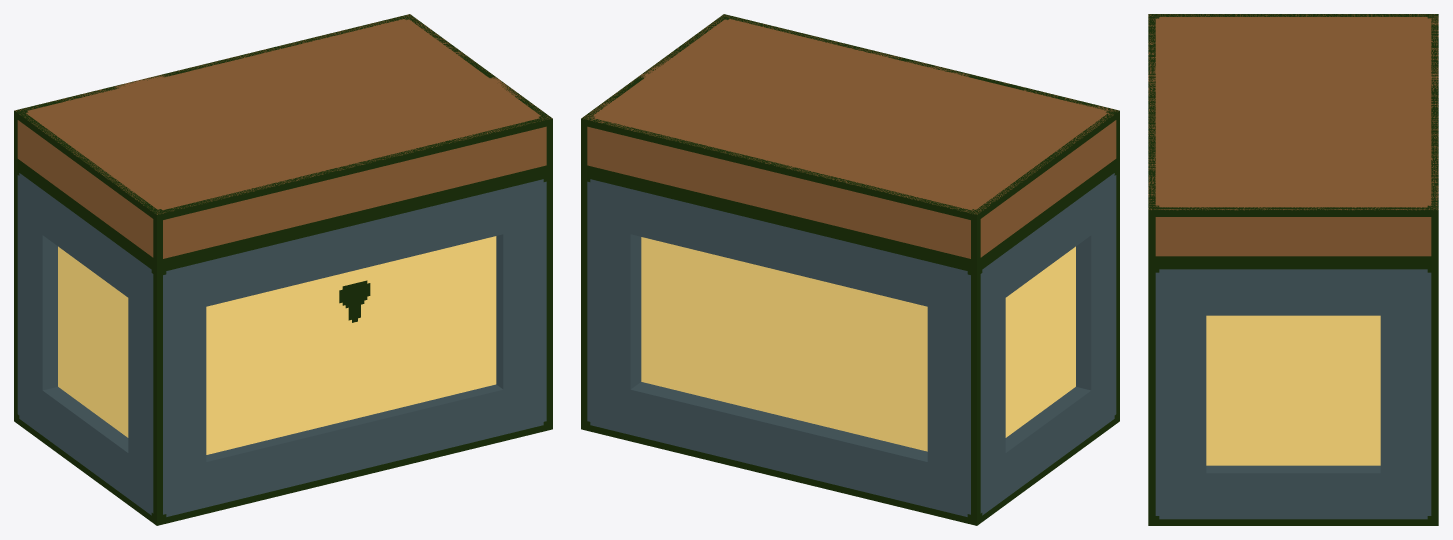
Rendered from SimpleChest-col.gltf.
The picture shows the model from 3 angles, left to right: view 1: azimuth 30°, elevation 25°; view 2: azimuth 150°, elevation 25°; view 3: azimuth 270°, elevation 25°; orthographic projection.
Parts seen in each view (by area): view 1: Chest-col; view 2: Chest-col; view 3: Chest-col.
Boxes of the visible parts, x1=… form: Chest-col: x1=14, y1=14, x2=552, y2=525; Chest-col: x1=581, y1=14, x2=1119, y2=525; Chest-col: x1=1148, y1=14, x2=1438, y2=525.
Bounding box in the file's own units: 8 × 6 × 5.
Materials: 2 (2 with a texture image).
